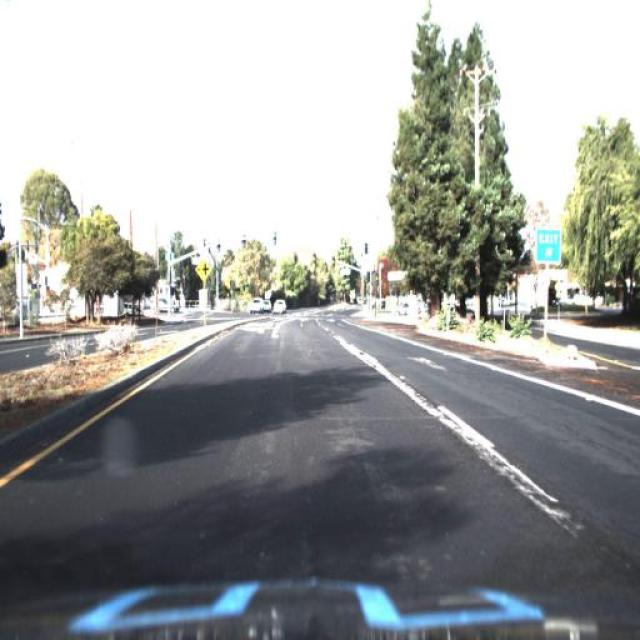car: (148, 293, 184, 315), (390, 300, 415, 320), (247, 293, 264, 317), (275, 292, 289, 319), (263, 298, 273, 318)
